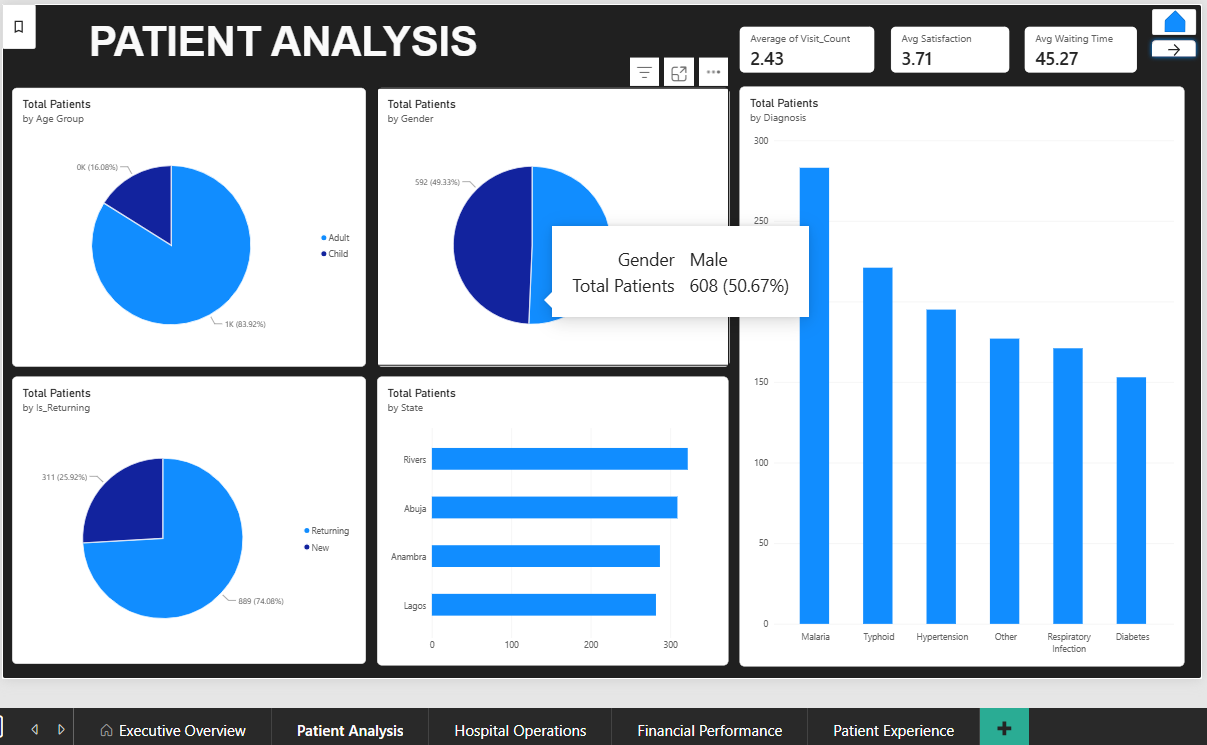

The page's visual inventory and layout, read from the dashboard file:
{"tool":"powerbi","page":{"name":"Patient Analysis","canvas":[1920,1080],"ordinal":1},"visuals":[{"type":"pieChart","fields":{"Category":["Fact_Visits.Age Group"],"Y":["_Measures.Total Patients"]},"box":[16,134,566,446],"z":5000},{"type":"textbox","title":"PATIENT ANALYSIS","box":[112,22,676.7,73.3],"z":6000},{"type":"pieChart","fields":{"Category":["Fact_Visits.Gender"],"Y":["_Measures.Total Patients"]},"box":[600,134,564,446],"z":7000},{"type":"pieChart","fields":{"Category":["Fact_Visits.Is_Returning"],"Y":["_Measures.Total Patients"]},"box":[16,596,566,460],"z":8000},{"type":"columnChart","fields":{"Category":["Fact_Visits.Diagnosis"],"Y":["_Measures.Total Patients"]},"box":[1180,132,712,928],"z":9000},{"type":"barChart","fields":{"Category":["Dim_State_Targets.State"],"Y":["_Measures.Total Patients"]},"box":[600,596,562,462],"z":10000},{"type":"cardVisual","fields":{"Data":["Avg(Fact_Visits.Visit_Count)"]},"box":[1180,35.7,216,74],"z":11000},{"type":"cardVisual","fields":{"Data":["_Measures.Avg Satisfaction"]},"box":[1421,35.7,190,74],"z":12000},{"type":"cardVisual","fields":{"Data":["_Measures.Avg Waiting Time"]},"box":[1636,35.7,180,74],"z":13000},{"type":"actionButton","box":[0,0,54,72],"z":13001},{"type":"actionButton","box":[1840.9,8.2,70.9,41.8],"z":13002},{"type":"actionButton","box":[1832.7,50,86,42],"z":13003},{"type":"shape","box":[1859.1,10.9,33.6,35.5],"z":13004}]}

Visuals, with their boxes in screenshot pixels (x1, y1, x2, y2):
pieChart - Fact_Visits.Age Group x _Measures.Total Patients: 13/86/364/363
"PATIENT ANALYSIS" textbox: 73/17/492/62
pieChart - Fact_Visits.Gender x _Measures.Total Patients: 375/86/725/363
pieChart - Fact_Visits.Is_Returning x _Measures.Total Patients: 13/373/364/658
columnChart - Fact_Visits.Diagnosis x _Measures.Total Patients: 735/85/1176/660
barChart - Dim_State_Targets.State x _Measures.Total Patients: 375/373/724/659
cardVisual - Avg(Fact_Visits.Visit_Count): 735/25/869/71
cardVisual - _Measures.Avg Satisfaction: 884/25/1002/71
cardVisual - _Measures.Avg Waiting Time: 1017/25/1129/71
actionButton: 3/3/37/48
actionButton: 1144/8/1188/34
actionButton: 1139/34/1193/60
shape: 1156/10/1177/32
